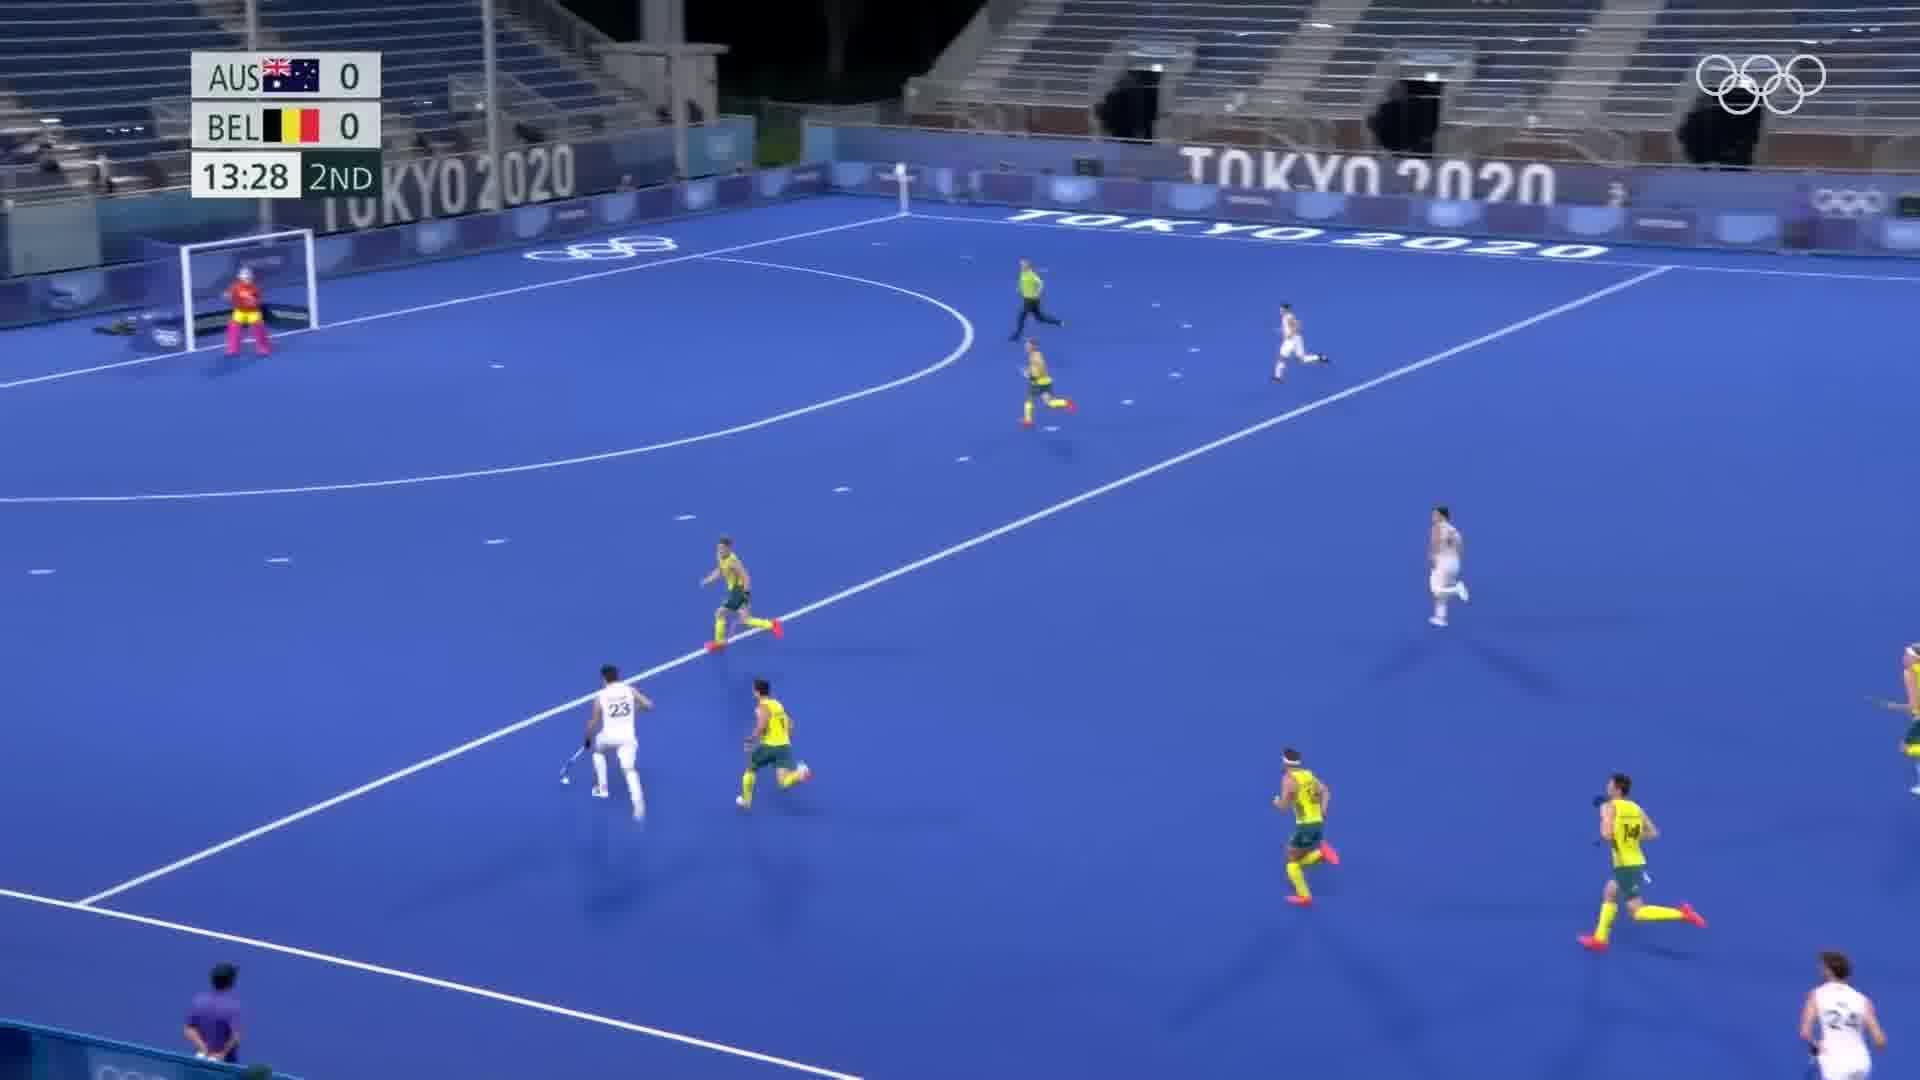ball: (557, 775, 576, 791)
